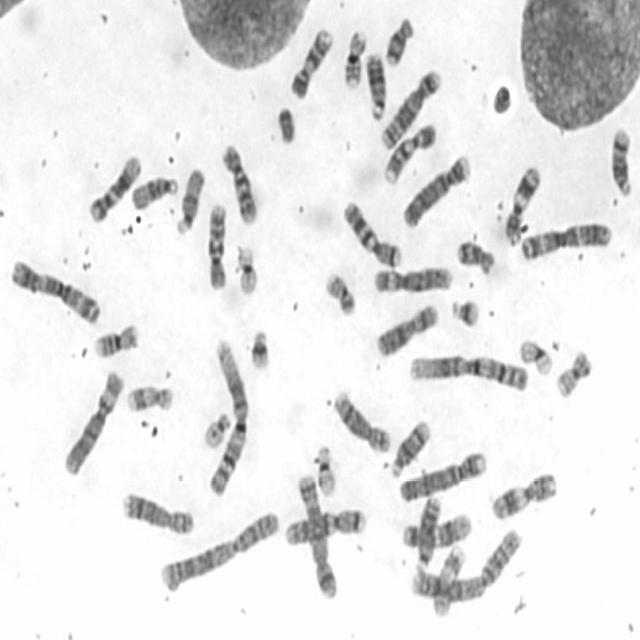A1: (204, 337, 250, 499), (405, 348, 530, 394)
A2: (157, 506, 281, 595), (407, 525, 523, 603)
A3: (7, 254, 103, 327), (516, 216, 613, 262)
B4: (400, 150, 472, 230), (396, 446, 488, 504)
B5: (294, 470, 339, 601), (378, 65, 443, 151)
C10: (219, 141, 259, 227), (203, 199, 229, 292)
C11: (487, 468, 560, 521), (502, 161, 541, 246)
C12: (85, 151, 142, 225), (399, 509, 474, 551)
C6: (60, 365, 126, 478), (370, 261, 453, 295)
C7: (340, 197, 402, 268), (282, 505, 368, 547)
C8: (331, 387, 392, 454), (120, 487, 195, 536)
C9: (380, 118, 438, 186), (287, 24, 335, 100)
D13: (413, 492, 443, 570), (363, 50, 387, 121)
D14: (388, 415, 431, 479), (606, 123, 634, 198)
D15: (173, 165, 206, 236), (128, 172, 180, 210)
E16: (90, 320, 142, 359), (339, 26, 368, 90)
E17: (430, 542, 468, 618), (124, 379, 176, 415)
E18: (381, 13, 415, 68), (454, 235, 496, 275)
F19: (233, 240, 260, 298), (516, 336, 554, 376)
F20: (554, 346, 593, 399), (322, 268, 357, 316)
G21: (448, 294, 481, 329), (247, 326, 272, 372)
G22: (201, 406, 233, 450), (314, 442, 338, 498)
X: (372, 300, 440, 358)
Y: (275, 102, 297, 145)
